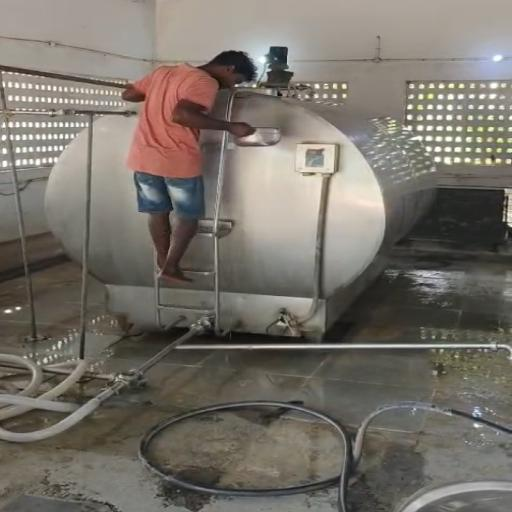silo: (43, 86, 439, 335)
vessel: (233, 125, 282, 147)
